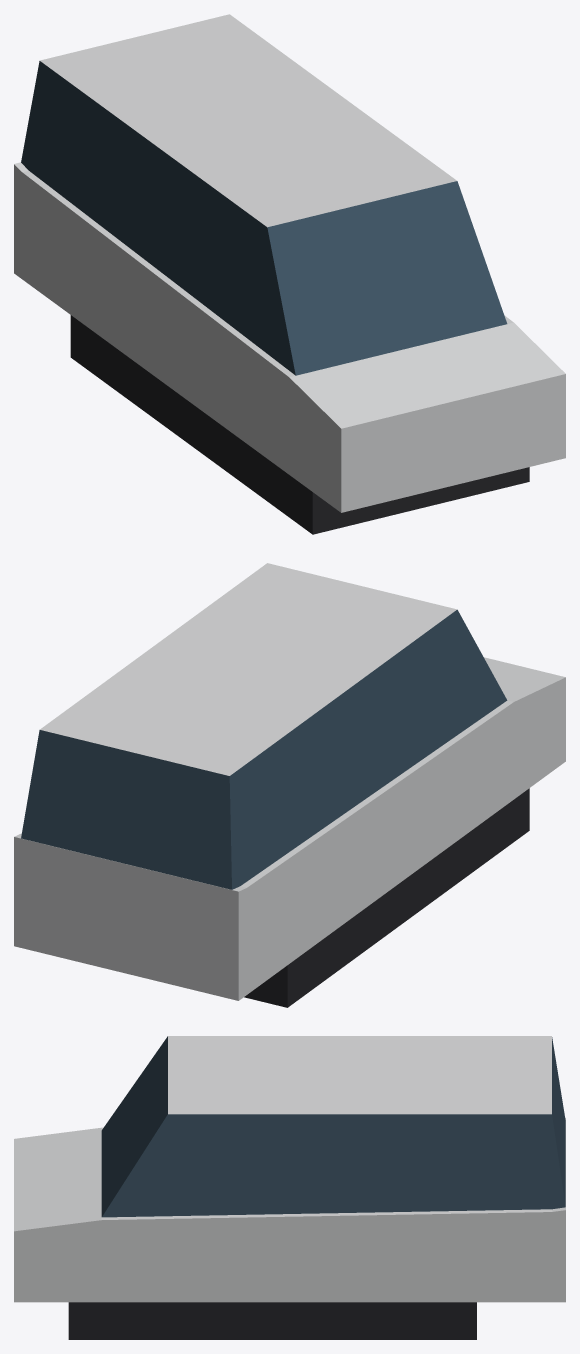
Rendered from 0_far.fbx.
The picture shows the model from 3 angles, top to bottom: view 1: azimuth 30°, elevation 25°; view 2: azimuth 150°, elevation 25°; view 3: azimuth 270°, elevation 25°; orthographic projection. The views are drawn at different scales.
Visible parts, largest first — view 1: 13_0_far; view 2: 13_0_far; view 3: 13_0_far.
Part boxes in pixels (x1,y1,x2,y2): 13_0_far: (14, 14, 565, 534); 13_0_far: (14, 563, 565, 1007); 13_0_far: (14, 1036, 565, 1339).
Bounding box in the file's own units: 1.72 × 1.91 × 4.34.
